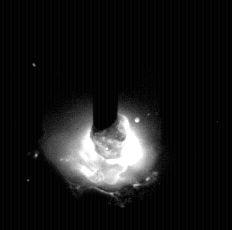arame: (93, 0, 119, 136)
poca: (42, 0, 161, 230)
